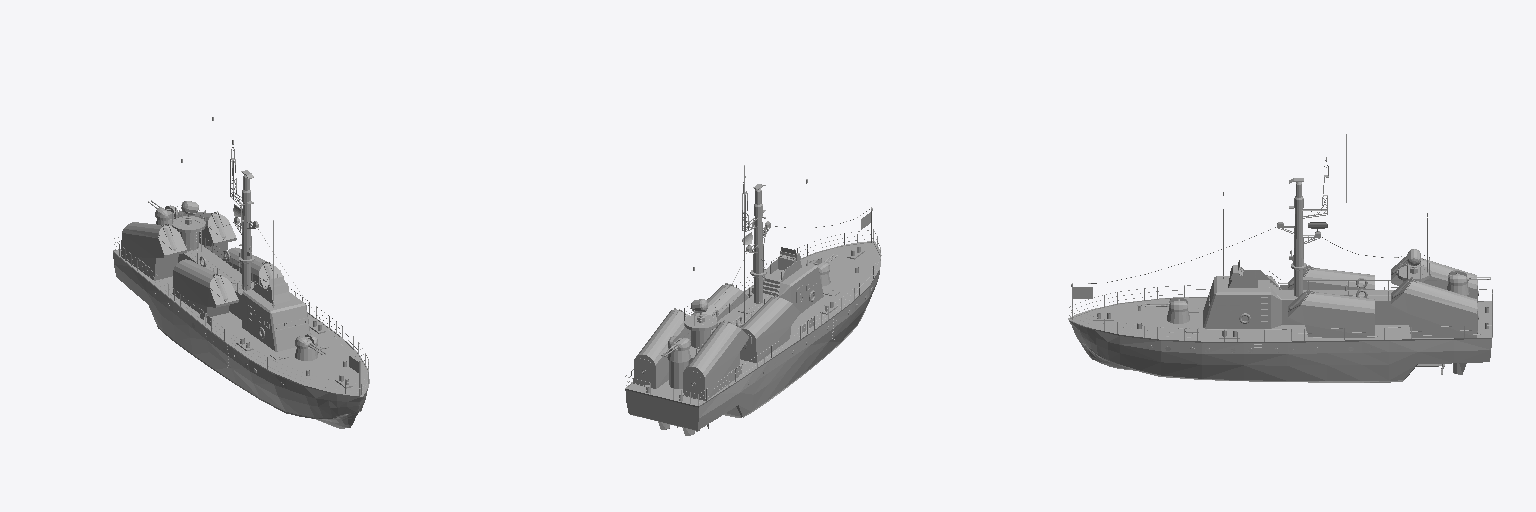
Rendered from Bladesong.obj.
3 views of the same model, side by side, from view 1: azimuth 30°, elevation 25°; view 2: azimuth 150°, elevation 25°; view 3: azimuth 270°, elevation 25° (orthographic).
Parts seen in each view (by area): view 1: DrawCall_0703, DrawCall_0716, DrawCall_0704, DrawCall_0708, DrawCall_0706, DrawCall_0707; view 2: DrawCall_0704, DrawCall_0716, DrawCall_0703; view 3: DrawCall_0716, DrawCall_0704, DrawCall_0703.
Part boxes in pixels (bbox=[...]): DrawCall_0703: bbox=[114, 158, 367, 394]; DrawCall_0716: bbox=[113, 205, 369, 428]; DrawCall_0704: bbox=[121, 117, 360, 395]; DrawCall_0708: bbox=[158, 224, 186, 255]; DrawCall_0706: bbox=[210, 273, 238, 304]; DrawCall_0707: bbox=[208, 211, 235, 243]; DrawCall_0704: bbox=[633, 165, 872, 400]; DrawCall_0716: bbox=[625, 229, 881, 430]; DrawCall_0703: bbox=[626, 184, 879, 405]; DrawCall_0716: bbox=[1068, 254, 1492, 382]; DrawCall_0704: bbox=[1071, 134, 1478, 347]; DrawCall_0703: bbox=[1071, 175, 1491, 340].
Bounding box in the file's own units: 8.17 × 19.39 × 31.91.